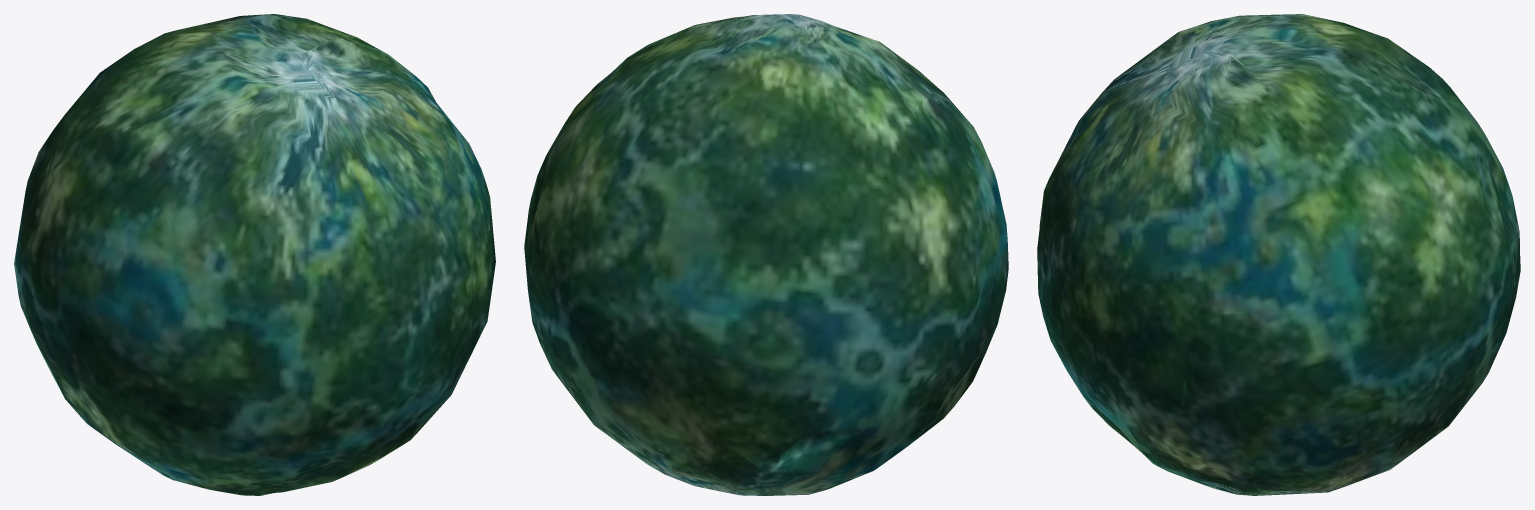
The model's file is planet_8-lod.glb.
3 renders of one model, left to right at view 1: azimuth 30°, elevation 25°; view 2: azimuth 150°, elevation 25°; view 3: azimuth 270°, elevation 25°, orthographic.
Visible parts, largest first — view 1: Mesh_0.001; view 2: Mesh_0.001; view 3: Mesh_0.001.
Boxes of the visible parts, x1,y1,x2,y2 form: Mesh_0.001: (14, 14, 495, 495); Mesh_0.001: (524, 14, 1008, 495); Mesh_0.001: (1037, 14, 1520, 495).
Bounding box in the file's own units: 1.9 × 1.9 × 1.9.
Materials: 1 (1 with a texture image).
